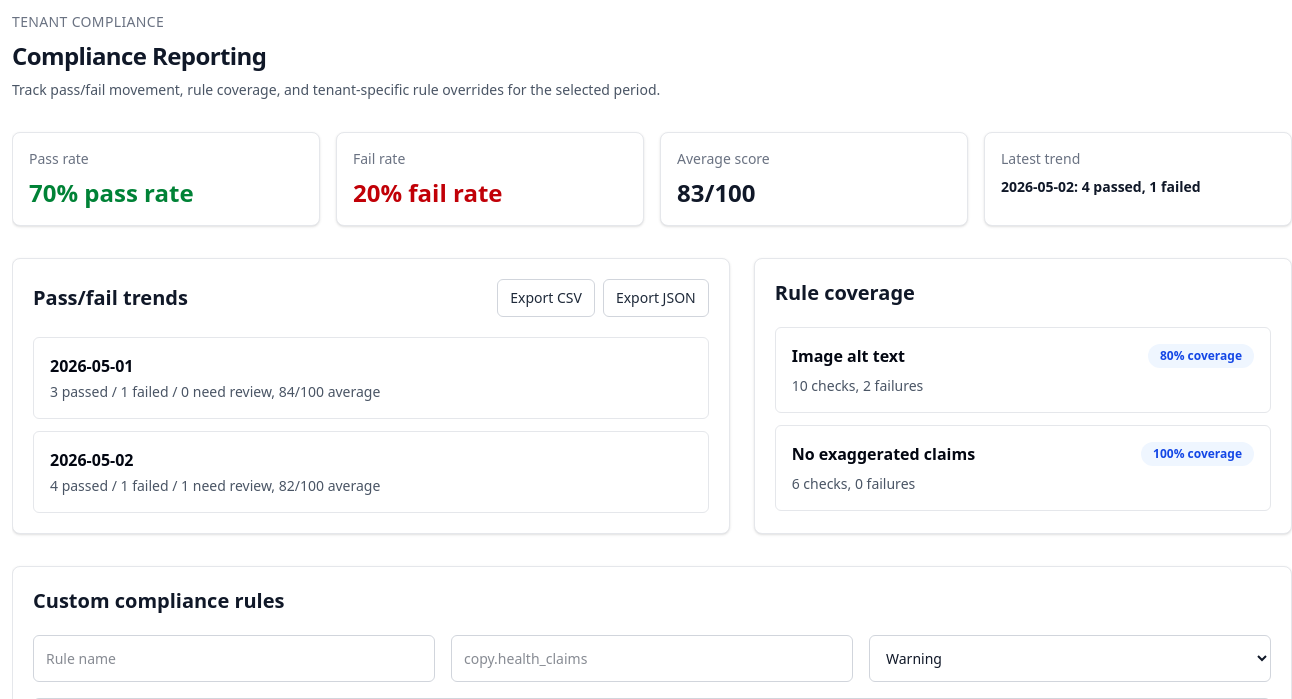
it: ComplianceReportingPanel › renders pass/fail trends, rule coverage, and export controls
Expected: the heading "Compliance Reporting" is shown, 12,39 -> 266,72
Expected: the text "70% pass rate" is shown, 29,176 -> 194,209
Click the button "Export CSV" at [546, 298], box 497,279 -> 595,317
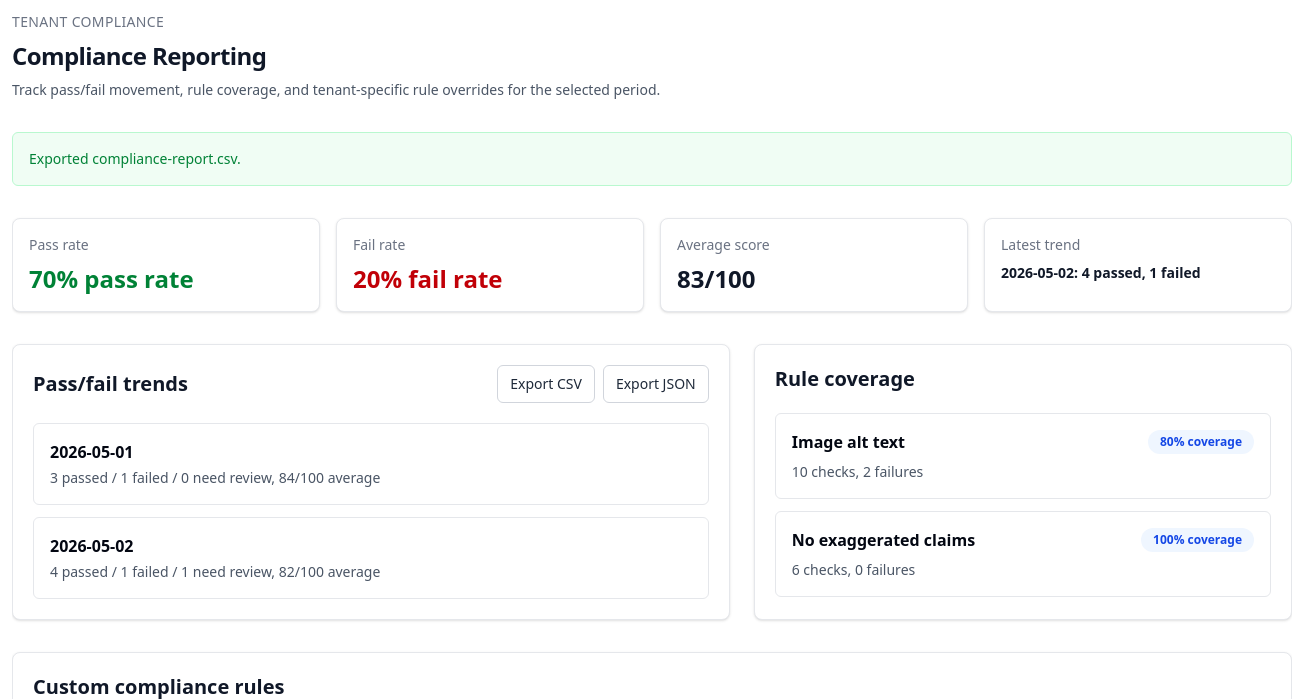
Expected: the message shows "Exported compliance-report.csv", 29,149 -> 241,168
